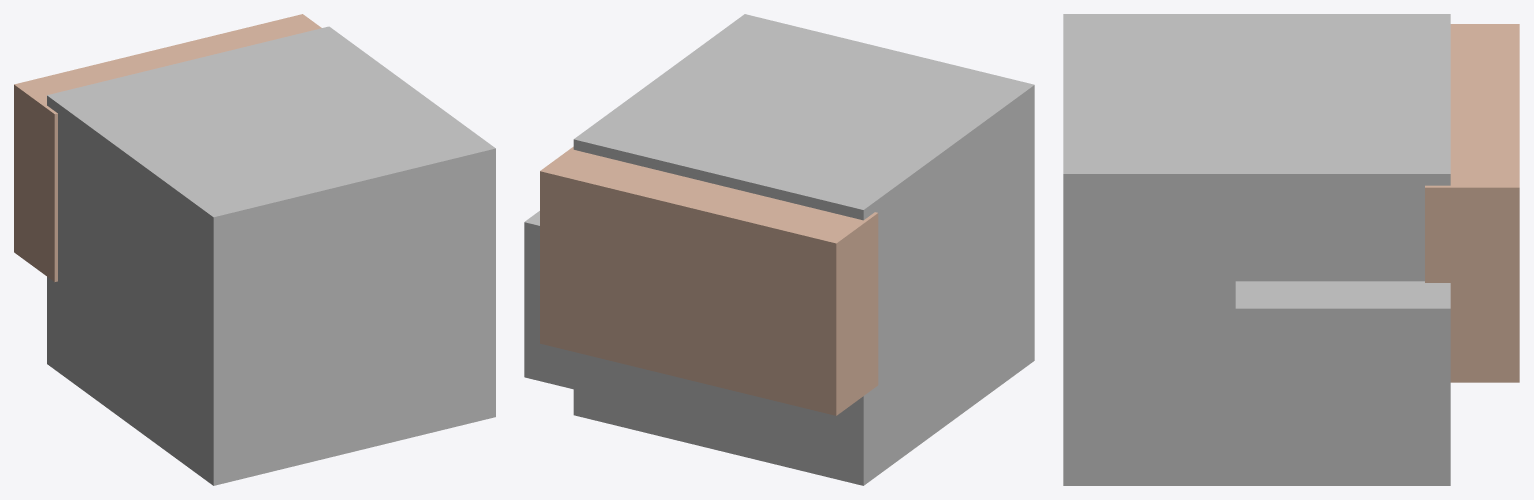
Rendered from fist_L.obj.
3 renders of one model, left to right at view 1: azimuth 30°, elevation 25°; view 2: azimuth 150°, elevation 25°; view 3: azimuth 270°, elevation 25°, orthographic. The views are drawn at different scales.
Visible parts, largest first — view 1: part0, part1; view 2: part0, part1, part2; view 3: part0, part2, part1.
Part boxes in pixels (bbox=[...]): part0: bbox=[47, 26, 495, 485]; part1: bbox=[14, 14, 321, 281]; part0: bbox=[573, 14, 1034, 485]; part1: bbox=[540, 146, 878, 415]; part2: bbox=[524, 211, 596, 394]; part0: bbox=[1063, 14, 1450, 485]; part2: bbox=[1235, 281, 1450, 483]; part1: bbox=[1425, 24, 1519, 382].
Size of the model in its own units: 0.104 by 0.08 by 0.106.
